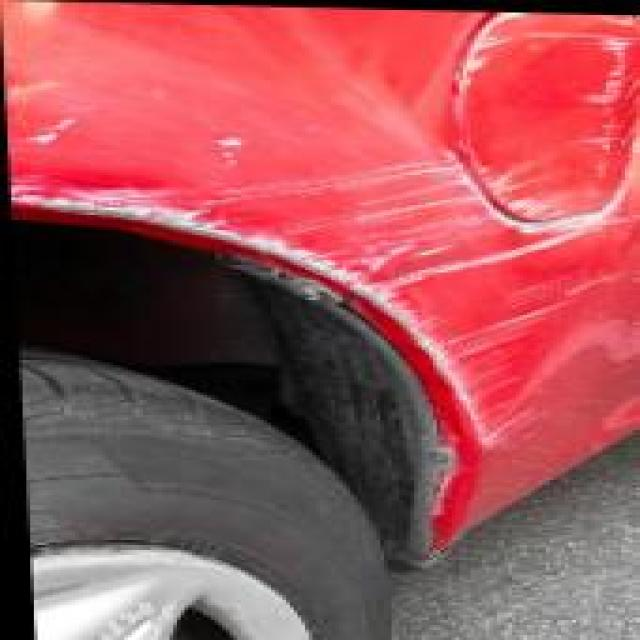Fender: (0, 0, 640, 472)
